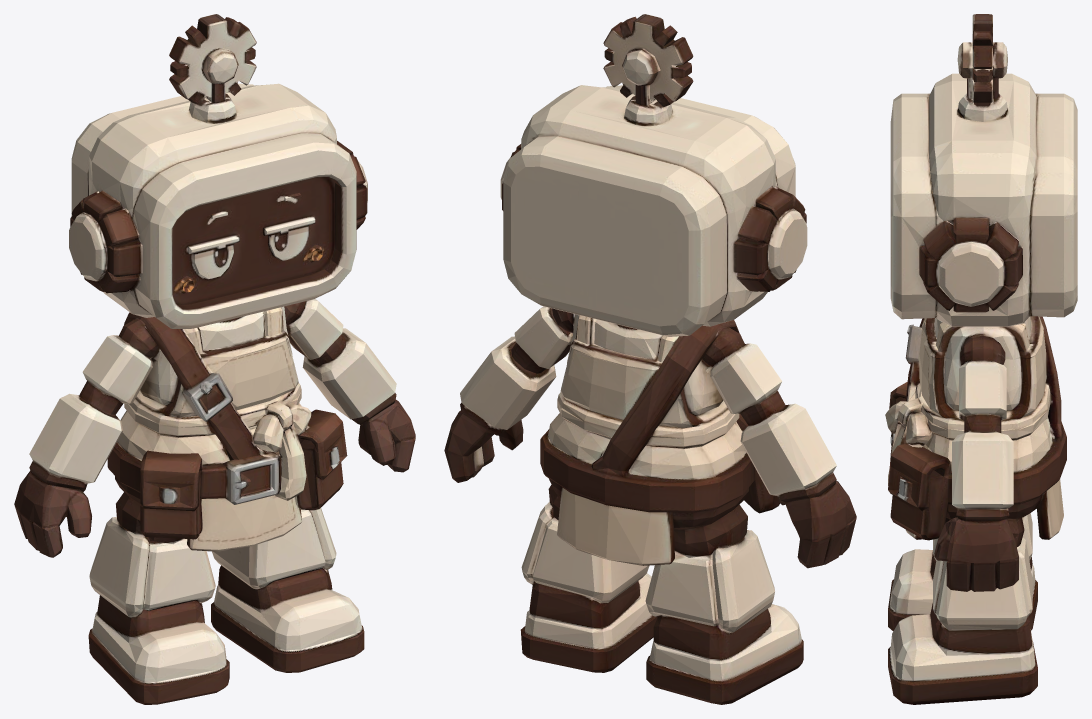
File: tama-cream-NxjF_Sjr.glb
3 renders of one model, left to right at view 1: azimuth 30°, elevation 25°; view 2: azimuth 150°, elevation 25°; view 3: azimuth 270°, elevation 25°, orthographic. The views are drawn at different scales.
Visible parts, largest first — view 1: tripo_node_f5d11fac-8685-4866-9ca1-e6fce5b4a0e0; view 2: tripo_node_f5d11fac-8685-4866-9ca1-e6fce5b4a0e0; view 3: tripo_node_f5d11fac-8685-4866-9ca1-e6fce5b4a0e0.
Part boxes in pixels (x1=…): tripo_node_f5d11fac-8685-4866-9ca1-e6fce5b4a0e0: x1=14, y1=14, x2=415, y2=704; tripo_node_f5d11fac-8685-4866-9ca1-e6fce5b4a0e0: x1=444, y1=14, x2=856, y2=704; tripo_node_f5d11fac-8685-4866-9ca1-e6fce5b4a0e0: x1=885, y1=14, x2=1077, y2=704.
Bounding box in the file's own units: 0.6103 × 0.9777 × 0.2698.
Materials: 1 (1 with a texture image).
